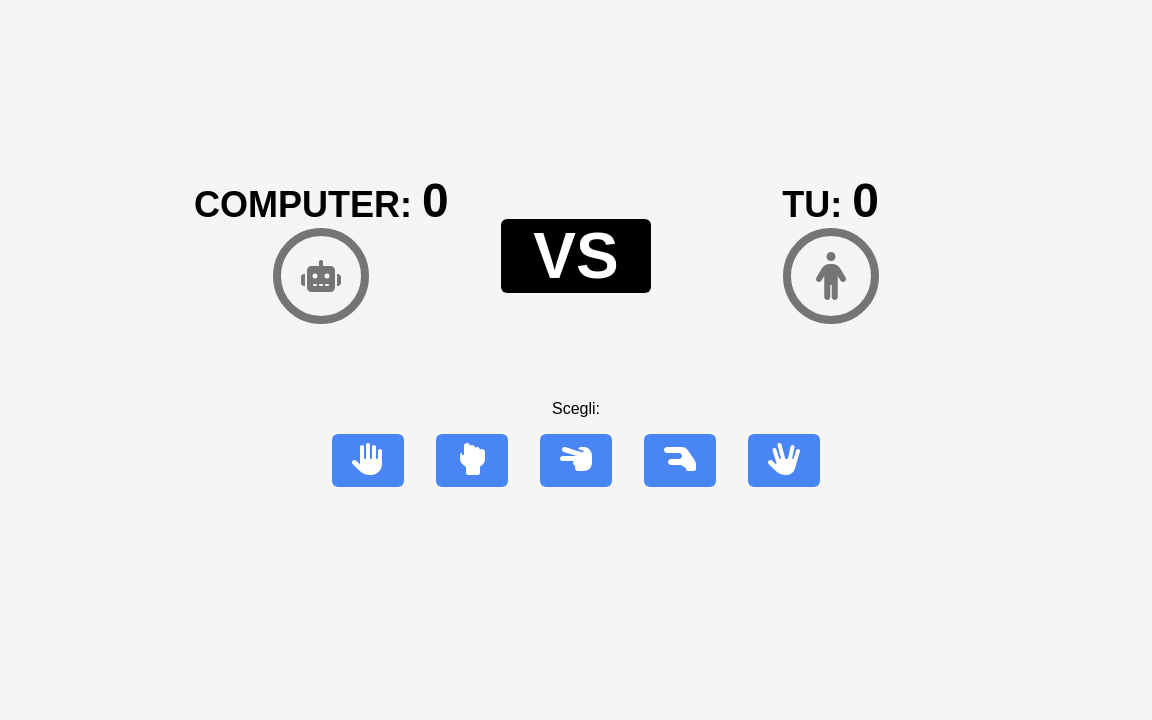
Game › should result in 'forbice' winning to 'carta'
The width and height of the screenshot is (1152, 720).
Click the button with test id "button-forbice".
click(576, 461)  # box [540,434,612,487]
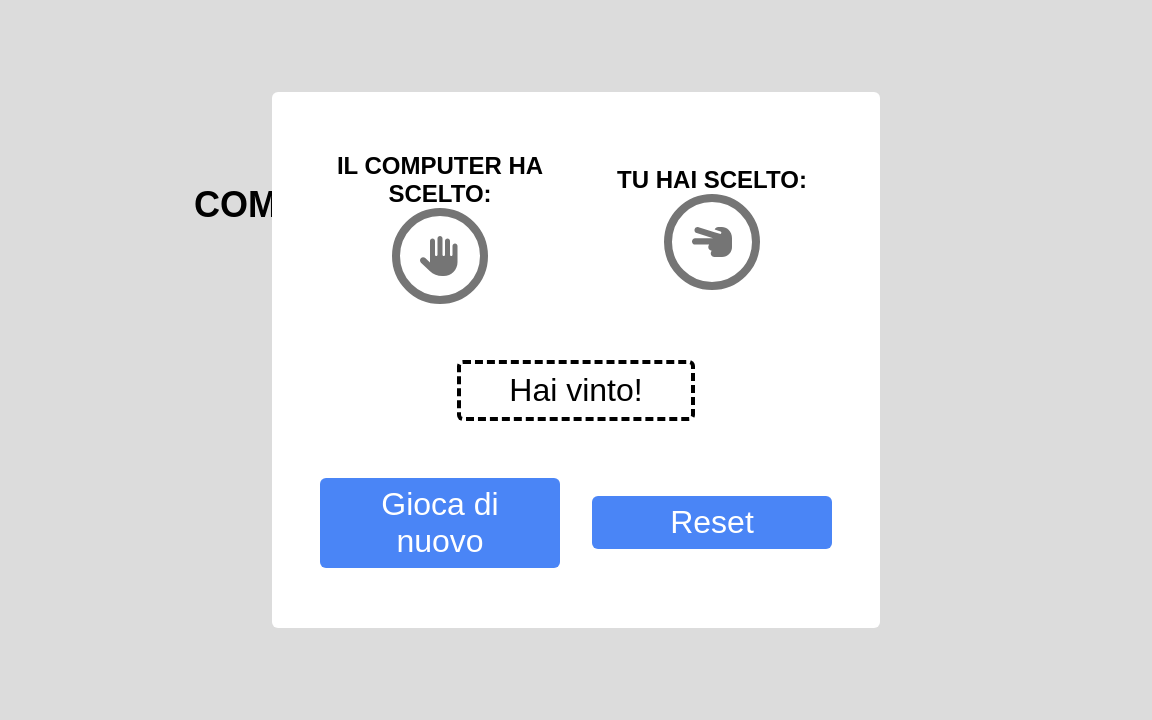
Expected: the dialog with test id "dialog" is shown, [272,92,880,628]
Expected: the text "Hai vinto!" is shown, [457,360,695,422]
